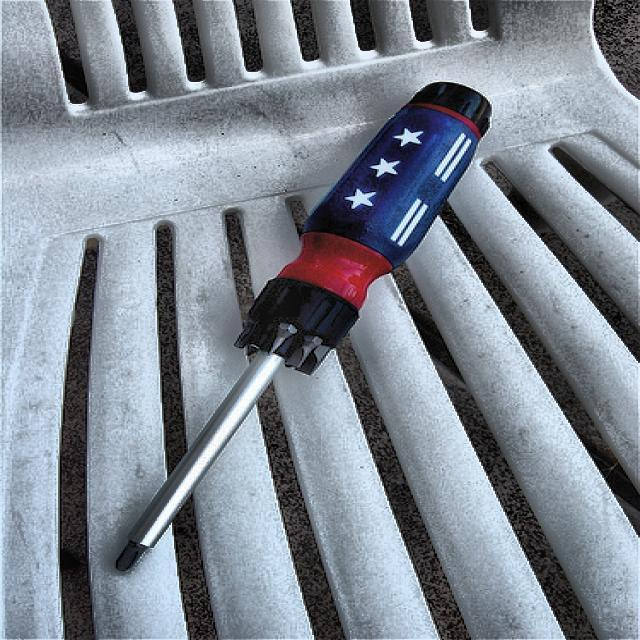screwdriver: (116, 80, 494, 570)
